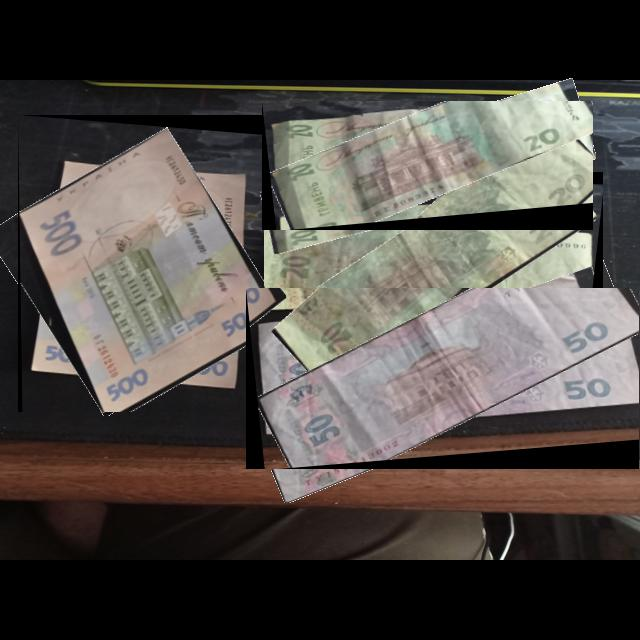20uah: (264, 172, 604, 366), (262, 101, 594, 231)
500uah: (19, 125, 275, 413)
50uah: (246, 288, 640, 470)
